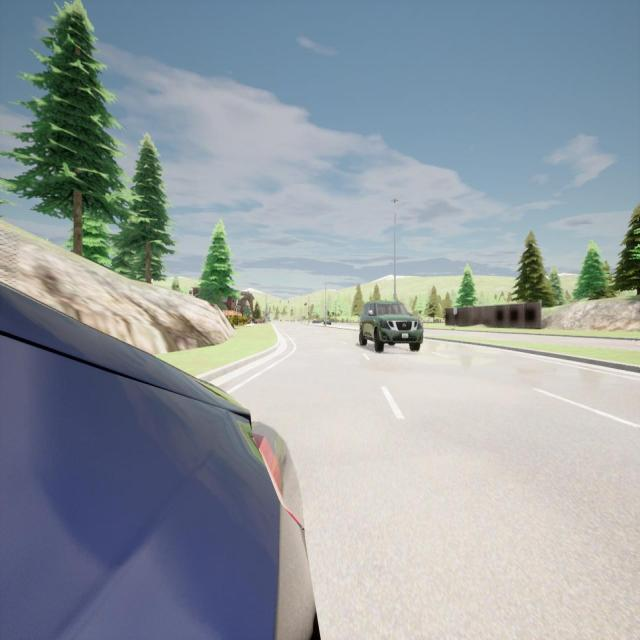Traffic_Signs: (453, 307, 457, 315)
Vehicle: (0, 280, 320, 639), (359, 301, 423, 351), (324, 316, 332, 326), (312, 318, 322, 324)
